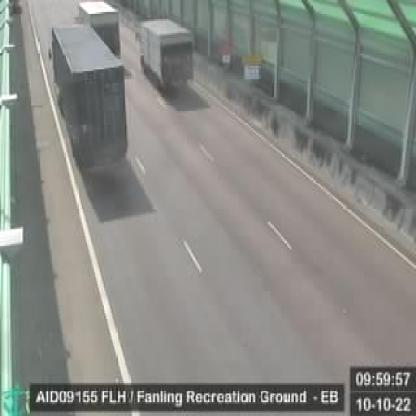Truck: (50, 25, 124, 177), (140, 18, 194, 91), (80, 1, 121, 49)
